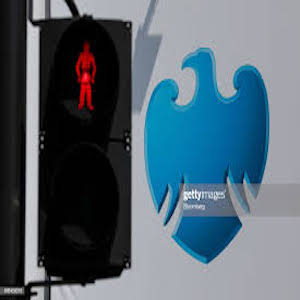red: (64, 41, 103, 109)
